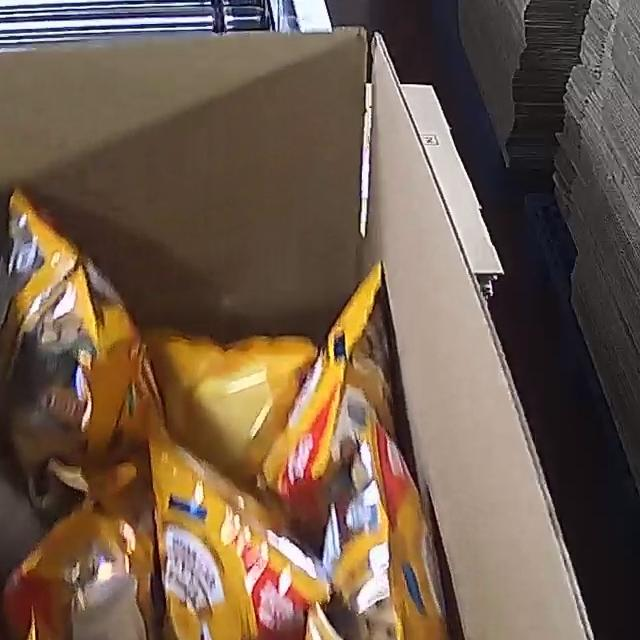cheese: (0, 181, 470, 640)
